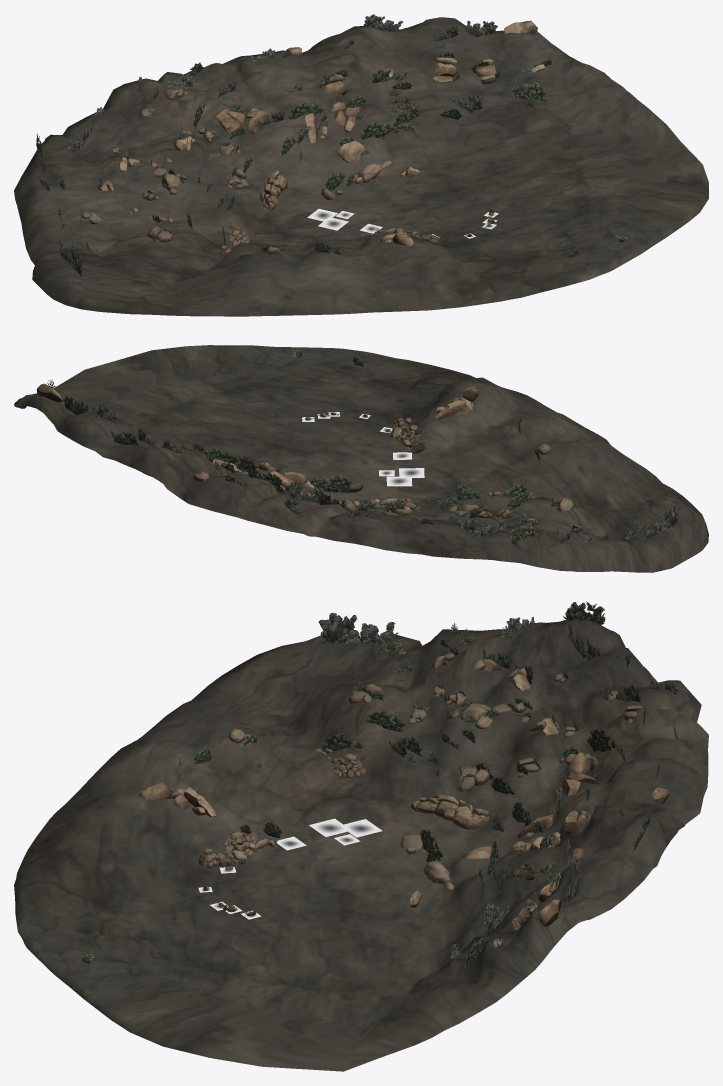
File: env_tyth_hills_01_pre.glb
The picture shows the model from 3 angles, top to bottom: view 1: azimuth 30°, elevation 25°; view 2: azimuth 150°, elevation 25°; view 3: azimuth 270°, elevation 25°; orthographic projection. The views are drawn at different scales.
Parts seen in each view (by area): view 1: tyth_base_terrain_01_mesh, tyth_foliage_01b_mesh, tyth_foliage_02b_mesh, tyth_rock_cluster_08_mesh, tyth_rock_cluster_02_mesh, tyth_rock_cluster_06_mesh, tyth_rock_cluster_05_mesh, tyth_foliage_03b_mesh, tyth_rock_cluster_01_mesh (3); view 2: tyth_base_terrain_01_mesh, tyth_foliage_01b_mesh, tyth_foliage_02b_mesh, tyth_rock_cluster_02_mesh, tyth_rock_cluster_06_mesh, tyth_foliage_03b_mesh, tyth_rock_cluster_08_mesh, tyth_foliage_02b_mesh (5), tyth_rock_cluster_02_mesh (1); view 3: tyth_base_terrain_01_mesh, tyth_foliage_01b_mesh, tyth_rock_cluster_02_mesh, tyth_foliage_02b_mesh, tyth_rock_cluster_06_mesh, tyth_foliage_03b_mesh, tyth_rock_cluster_08_mesh, tyth_rock_cluster_01_mesh (3), tyth_rock_cluster_05_mesh, tyth_rock_cluster_02_mesh (1).
Boxes of the visible parts, left/top/right/bottom form: tyth_base_terrain_01_mesh: left=14, top=17, right=708, bottom=316; tyth_foliage_01b_mesh: left=39, top=14, right=541, bottom=276; tyth_foliage_02b_mesh: left=36, top=51, right=551, bottom=252; tyth_rock_cluster_08_mesh: left=119, top=20, right=537, bottom=183; tyth_rock_cluster_02_mesh: left=82, top=88, right=342, bottom=253; tyth_rock_cluster_06_mesh: left=98, top=47, right=545, bottom=245; tyth_rock_cluster_05_mesh: left=215, top=107, right=271, bottom=133; tyth_foliage_03b_mesh: left=53, top=24, right=538, bottom=254; tyth_rock_cluster_01_mesh (3): left=260, top=170, right=288, bottom=211; tyth_base_terrain_01_mesh: left=14, top=345, right=708, bottom=572; tyth_foliage_01b_mesh: left=63, top=396, right=680, bottom=543; tyth_foliage_02b_mesh: left=90, top=406, right=609, bottom=544; tyth_rock_cluster_02_mesh: left=339, top=443, right=582, bottom=532; tyth_rock_cluster_06_mesh: left=193, top=386, right=536, bottom=525; tyth_foliage_03b_mesh: left=47, top=380, right=643, bottom=542; tyth_rock_cluster_08_mesh: left=36, top=383, right=494, bottom=517; tyth_foliage_02b_mesh (5): left=313, top=474, right=352, bottom=492; tyth_rock_cluster_02_mesh (1): left=392, top=418, right=420, bottom=443; tyth_base_terrain_01_mesh: left=14, top=619, right=708, bottom=1071; tyth_foliage_01b_mesh: left=318, top=612, right=677, bottom=941; tyth_rock_cluster_02_mesh: left=228, top=653, right=642, bottom=854; tyth_foliage_02b_mesh: left=192, top=601, right=605, bottom=972; tyth_rock_cluster_06_mesh: left=138, top=658, right=669, bottom=947; tyth_foliage_03b_mesh: left=160, top=623, right=649, bottom=958; tyth_rock_cluster_08_mesh: left=409, top=668, right=583, bottom=931; tyth_rock_cluster_01_mesh (3): left=410, top=794, right=489, bottom=829; tyth_rock_cluster_05_mesh: left=552, top=752, right=597, bottom=796; tyth_rock_cluster_02_mesh (1): left=198, top=831, right=258, bottom=868.
Size of what is drawn, in the model's own units: 159 by 23.03 by 110.
Materials: 21 (21 with a texture image).
